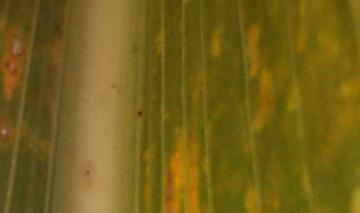tarspot: (136, 110, 143, 117), (84, 169, 92, 175)
